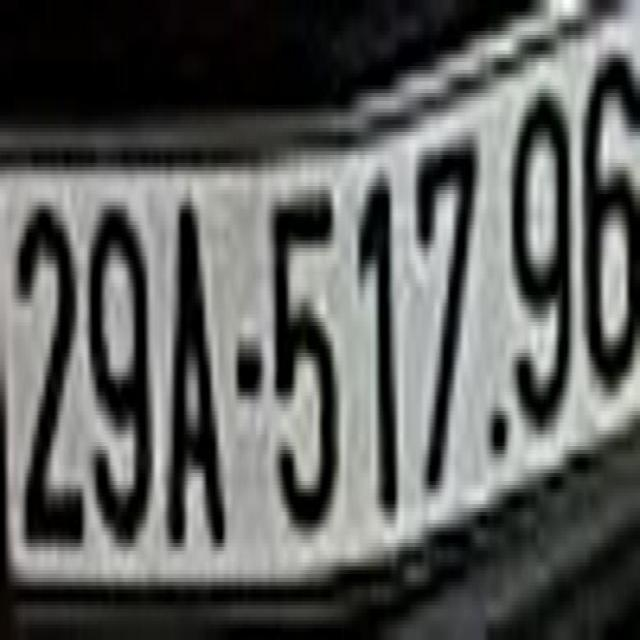1: (352, 148, 406, 540)
2: (15, 170, 86, 566)
5: (269, 162, 337, 562)
6: (580, 35, 640, 419)
7: (414, 93, 478, 504)
9: (86, 163, 151, 566), (508, 78, 572, 470)
A: (164, 163, 227, 574)
